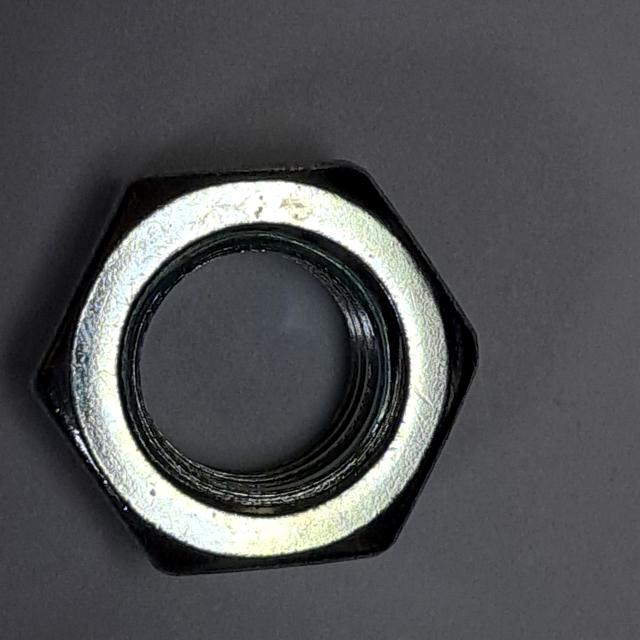Excellent: (15, 154, 487, 590)
